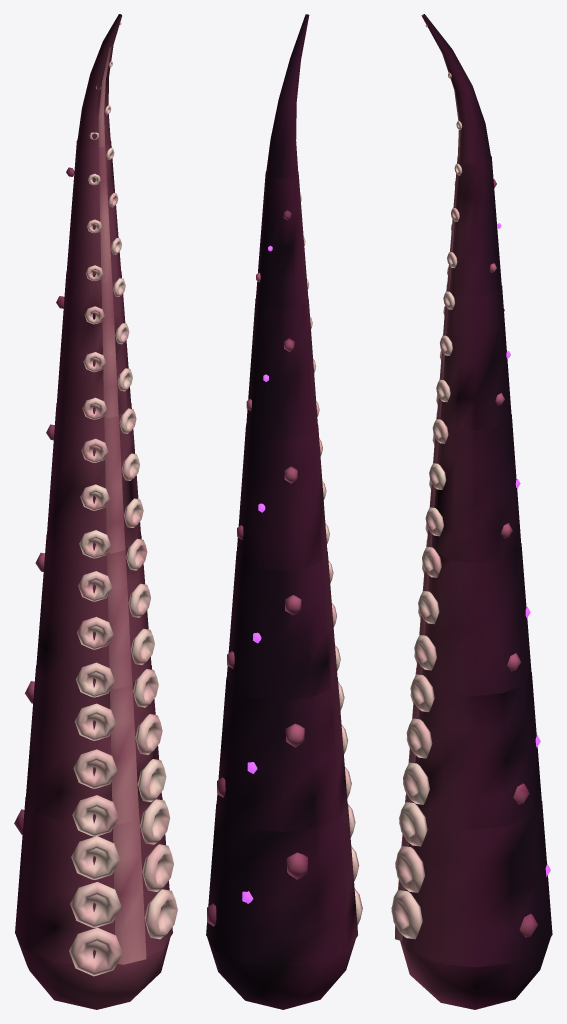
Rendered from chapadlo.glb.
3 views of the same model, side by side, from view 1: azimuth 30°, elevation 25°; view 2: azimuth 150°, elevation 25°; view 3: azimuth 270°, elevation 25° (orthographic). The views are drawn at different scales.
Visible parts, largest first — view 1: m_zem_0_kuza, m_zem_0_prisavka, m_zem_1_prisavka, m_zem_1_kuza, m_zem_2_kuza, m_zem_3_kuza, m_zem_2_prisavka, m_zem_4_kuza, m_zem_3_prisavka, m_zem_5_kuza, m_zem_4_prisavka, m_zem_6_kuza (+2 smaller); view 2: m_zem_0_kuza, m_zem_1_kuza, m_zem_2_kuza, m_zem_3_kuza, m_zem_4_kuza, m_zem_5_kuza, m_zem_6_kuza, m_zem_0_svetla, m_zem_1_svetla, m_zem_0_prisavka, m_zem_2_svetla; view 3: m_zem_0_kuza, m_zem_1_kuza, m_zem_2_kuza, m_zem_3_kuza, m_zem_4_kuza, m_zem_5_kuza, m_zem_0_prisavka, m_zem_6_kuza, m_zem_1_prisavka, m_zem_2_prisavka, m_zem_3_prisavka, m_zem_4_prisavka (+1 smaller).
Part boxes in pixels (x1,y1,x2,y2): m_zem_0_kuza: (15, 797, 172, 1009); m_zem_0_prisavka: (69, 799, 177, 976); m_zem_1_prisavka: (72, 669, 166, 836); m_zem_1_kuza: (26, 666, 161, 823); m_zem_2_kuza: (36, 534, 151, 688); m_zem_3_kuza: (47, 403, 140, 553); m_zem_2_prisavka: (76, 538, 154, 697); m_zem_4_kuza: (56, 272, 131, 418); m_zem_3_prisavka: (79, 408, 143, 558); m_zem_5_kuza: (66, 140, 121, 283); m_zem_4_prisavka: (82, 278, 132, 419); m_zem_6_kuza: (77, 14, 121, 147); m_zem_0_kuza: (206, 804, 357, 1009); m_zem_1_kuza: (216, 678, 347, 831); m_zem_2_kuza: (226, 551, 337, 701); m_zem_3_kuza: (236, 425, 327, 570); m_zem_4_kuza: (246, 298, 317, 440); m_zem_5_kuza: (256, 171, 308, 309); m_zem_6_kuza: (266, 14, 309, 179); m_zem_0_svetla: (207, 852, 307, 926); m_zem_1_svetla: (217, 723, 304, 797); m_zem_0_prisavka: (348, 804, 362, 925); m_zem_2_svetla: (227, 595, 301, 668); m_zem_0_kuza: (400, 801, 552, 1009); m_zem_1_kuza: (412, 672, 541, 829); m_zem_2_kuza: (422, 543, 531, 696); m_zem_3_kuza: (431, 414, 521, 562); m_zem_4_kuza: (440, 285, 511, 429); m_zem_5_kuza: (450, 156, 501, 297); m_zem_0_prisavka: (391, 795, 427, 940); m_zem_6_kuza: (422, 14, 491, 163); m_zem_1_prisavka: (403, 667, 434, 804); m_zem_2_prisavka: (414, 539, 441, 674); m_zem_3_prisavka: (425, 411, 448, 547); m_zem_4_prisavka: (436, 283, 454, 417).
Size of the model in its own units: 1.2 by 8.45 by 1.25.
